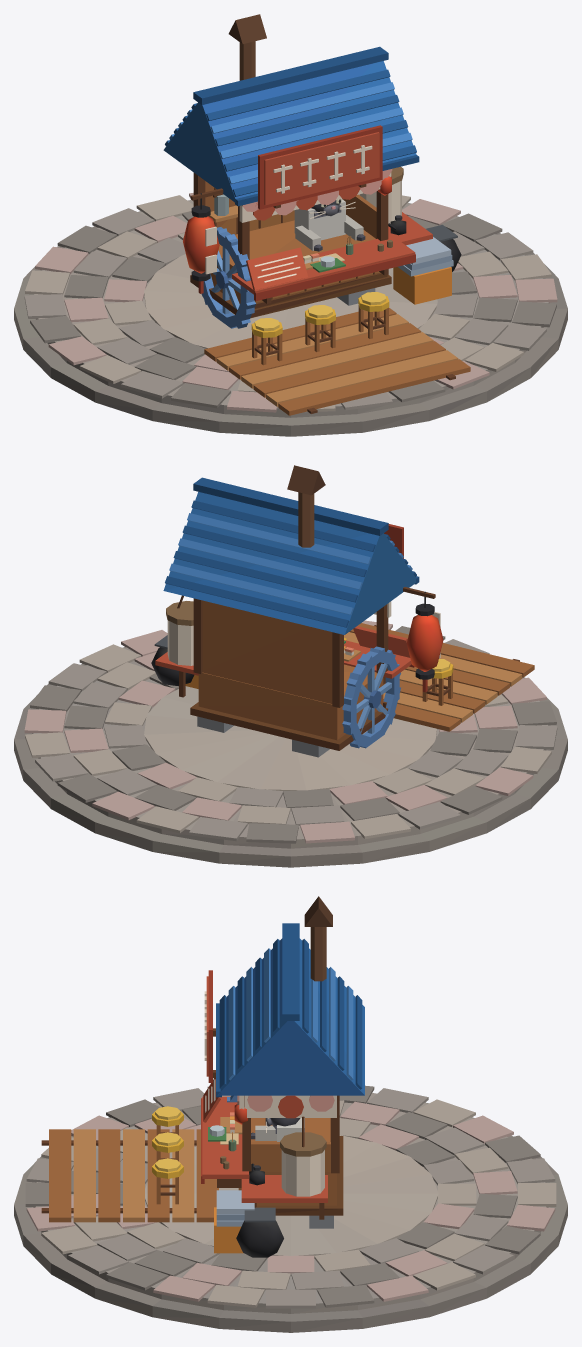
File: catstall.glb
3 renders of one model, top to bottom at view 1: azimuth 30°, elevation 25°; view 2: azimuth 150°, elevation 25°; view 3: azimuth 270°, elevation 25°, orthographic.
Visible parts, largest first — view 1: Plaza Rim, Roof, Plaza Inner, Sign Board, Plaza, Ridge Cap, Deck Plank 7, Body, Deck Plank 4, Deck Plank 5, Deck Plank 6, Deck Plank 3 (+68 smaller); view 2: Plaza Inner, Plaza Rim, Roof, Back Wall, Body, Plaza, Ridge Cap, Chassis, Big Lantern, Back Roof Row 5, Back Roof Row 4, Back Roof Row 3 (+70 smaller); view 3: Plaza Rim, Plaza Inner, Roof, Plaza, Deck Plank 5, Deck Plank 6, Deck Plank 7, Counter, Deck Plank 4, Stockpot, Ridge Cap, Deck Plank 2 (+78 smaller).
Boxes of the visible parts, box(x1,y1,x2,y2) form: Plaza Rim: box(14, 211, 567, 436); Roof: box(163, 61, 416, 203); Plaza Inner: box(144, 254, 437, 348); Sign Board: box(264, 132, 379, 205); Plaza: box(34, 194, 549, 417); Ridge Cap: box(193, 46, 388, 104); Deck Plank 7: box(278, 359, 470, 415); Body: box(210, 220, 379, 304); Deck Plank 4: box(241, 332, 433, 388); Deck Plank 5: box(253, 341, 445, 397); Deck Plank 6: box(266, 350, 458, 406); Deck Plank 3: box(229, 323, 421, 379); Plaza Inner: box(144, 686, 437, 790); Plaza Rim: box(14, 642, 567, 867); Roof: box(163, 492, 416, 634); Back Wall: box(202, 600, 332, 703); Body: box(198, 664, 383, 740); Plaza: box(32, 647, 547, 848); Ridge Cap: box(193, 477, 388, 535); Chassis: box(190, 702, 388, 750); Big Lantern: box(406, 615, 443, 671); Back Roof Row 5: box(182, 525, 366, 577); Back Roof Row 4: box(178, 538, 362, 589); Back Roof Row 3: box(173, 551, 357, 602); Plaza Rim: box(14, 1102, 567, 1332); Plaza Inner: box(145, 1135, 438, 1255); Roof: box(217, 938, 364, 1095); Plaza: box(33, 1093, 548, 1313); Deck Plank 5: box(98, 1129, 120, 1222); Deck Plank 6: box(73, 1129, 95, 1222); Deck Plank 7: box(49, 1129, 71, 1222); Counter: box(202, 1096, 248, 1178); Deck Plank 4: box(123, 1129, 144, 1222); Stockpot: box(281, 1150, 324, 1196); Ridge Cap: box(282, 923, 299, 1020); Deck Plank 2: box(172, 1129, 194, 1222).
Bounding box in the file's own units: 9 × 5.37 × 9.
